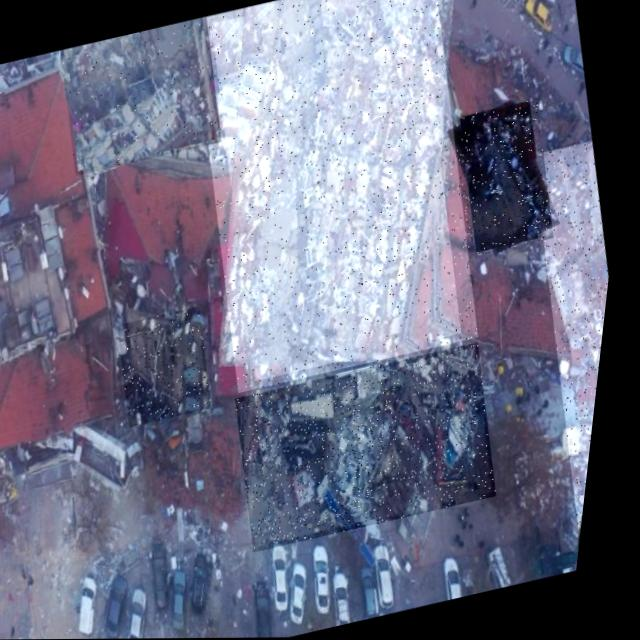Rubble: (161, 0, 515, 393), (230, 342, 521, 553), (503, 141, 627, 530), (51, 16, 236, 176), (443, 97, 571, 258), (116, 306, 230, 427), (0, 63, 11, 120)
